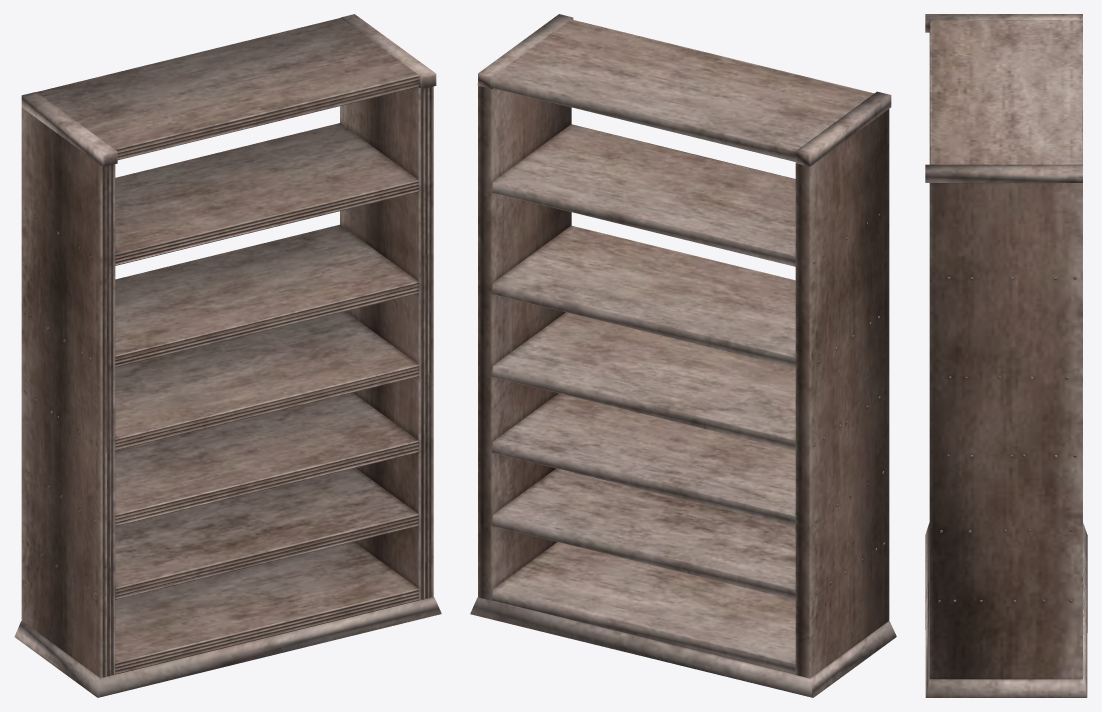
The model's file is wooden_bookshelf_worn.glb.
The picture shows the model from 3 angles, left to right: view 1: azimuth 30°, elevation 25°; view 2: azimuth 150°, elevation 25°; view 3: azimuth 270°, elevation 25°; orthographic projection. The views are drawn at different scales.
Parts seen in each view (by area): view 1: wooden_bookshelf_worn; view 2: wooden_bookshelf_worn; view 3: wooden_bookshelf_worn.
Part boxes in pixels (bbox=[...]): wooden_bookshelf_worn: bbox=[14, 14, 441, 697]; wooden_bookshelf_worn: bbox=[470, 14, 896, 697]; wooden_bookshelf_worn: bbox=[925, 14, 1087, 697].
Bounding box in the file's own units: 1.37 × 2.06 × 0.5799.
Materials: 1 (1 with a texture image).
